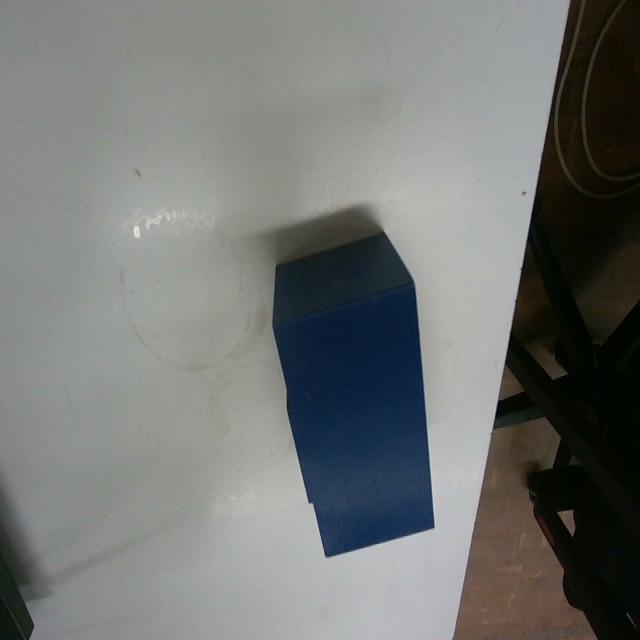Blue Cuboid: (269, 227, 437, 557)
